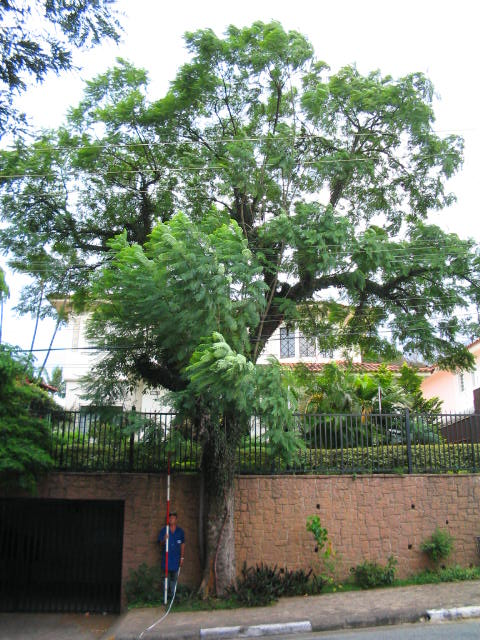crown: (5, 21, 477, 468)
stem: (184, 447, 250, 597)
stick: (158, 452, 175, 607)
tree: (3, 18, 480, 599)
